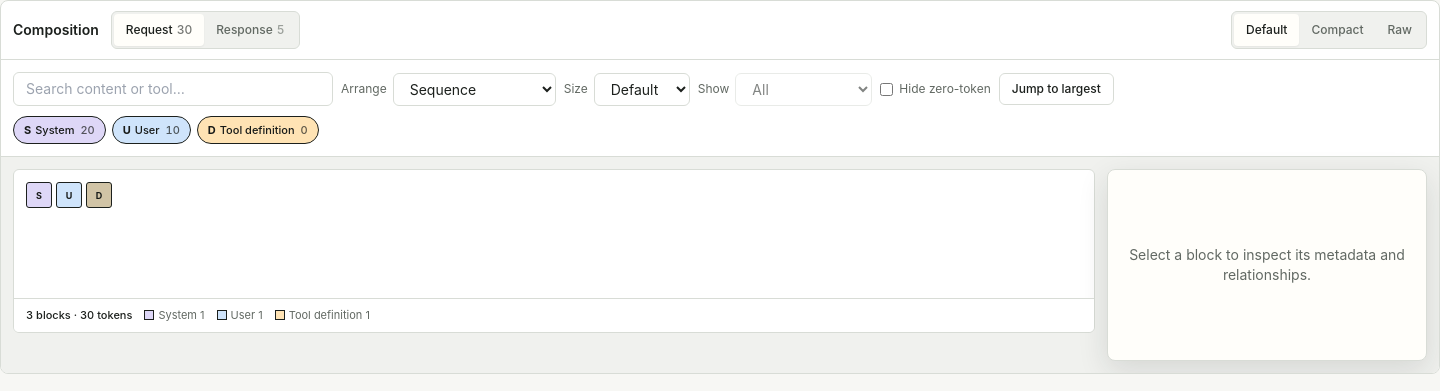
RequestWorkbench › filters blocks and exposes Raw in the same workbench
This screenshot has width=1440, height=391.
Expected: the button "U" is shown, 56,182 -> 82,208
Step 1. Click the checkbox labelled "Hide zero-token" → (887, 89), box 880,82 -> 893,96
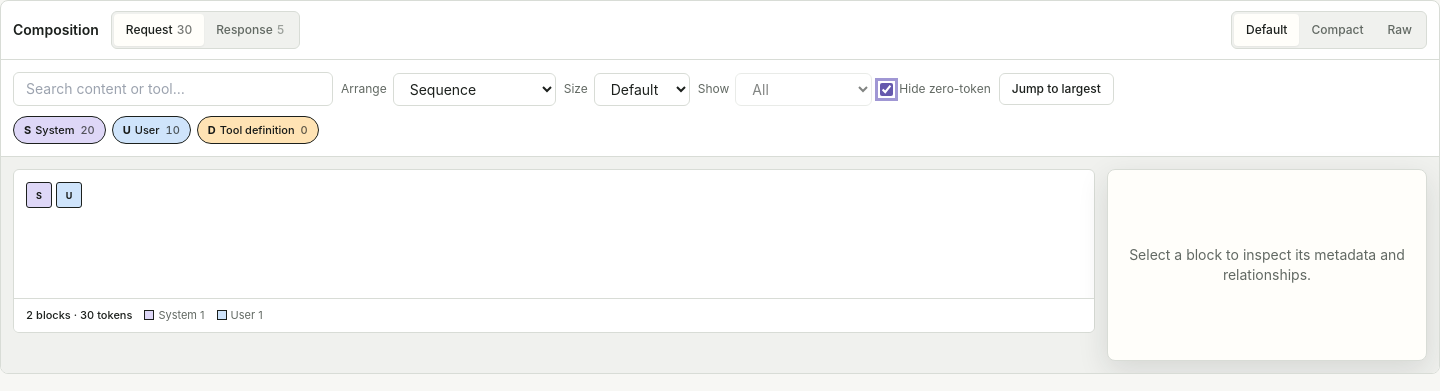
Step 2. Type "system rules" into the search field named "Search request blocks" → (173, 89), box 13,72 -> 333,106
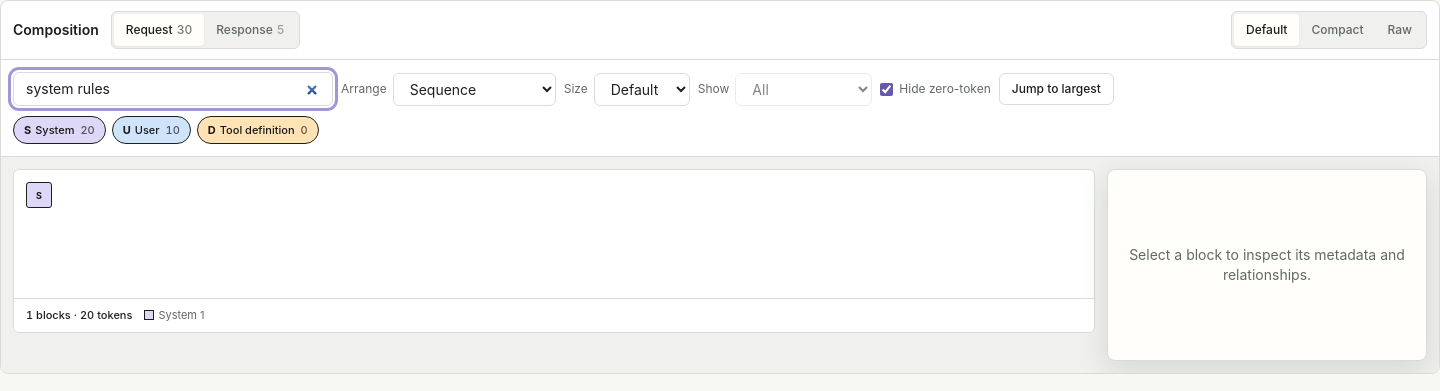
Step 3. Click the button "Raw" → (1400, 30), box 1376,14 -> 1424,46
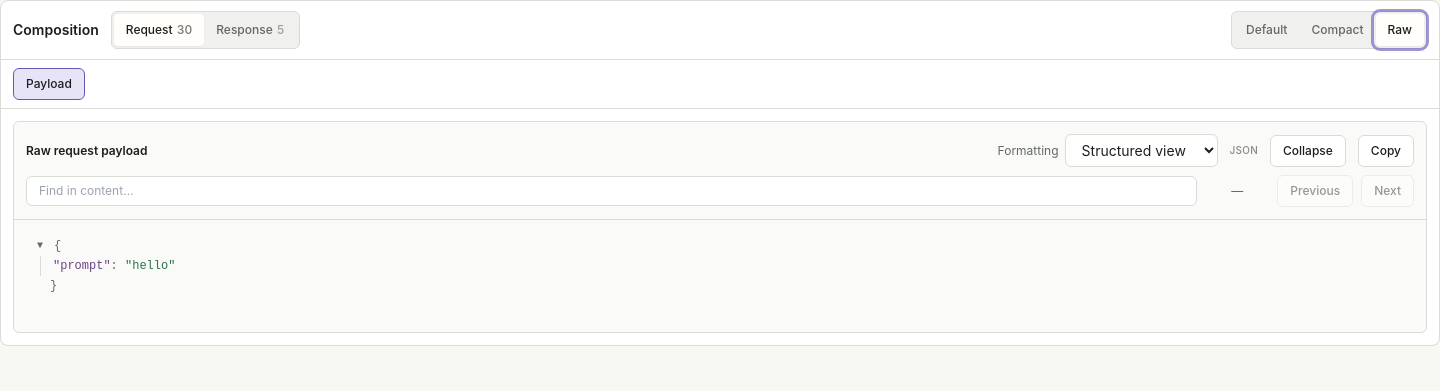
Now the element named "Structured JSON" is shown, box 30,236 -> 1410,296
Now the text "\"prompt\"" is shown, box 53,259 -> 111,273
Now the text "\"hello\"" is shown, box 125,259 -> 175,273
Step 4. Type "hello" into the search field named "Search raw request payload" → (612, 191), box 26,176 -> 1197,206
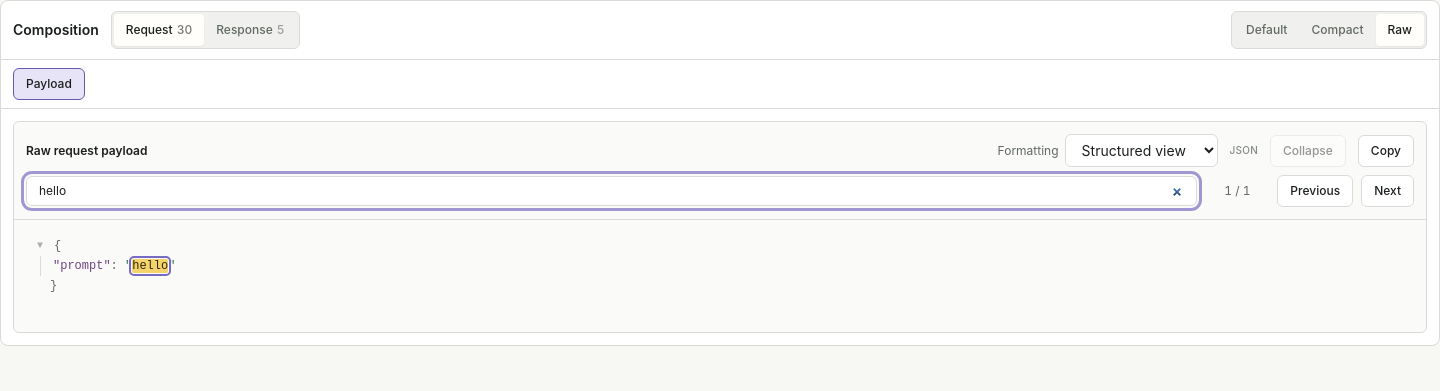
Now the dropdown labelled "Formatting" shows "Structured view", box 1065,134 -> 1218,167
Now the text "1 / 1" is shown, box 1224,183 -> 1250,198
